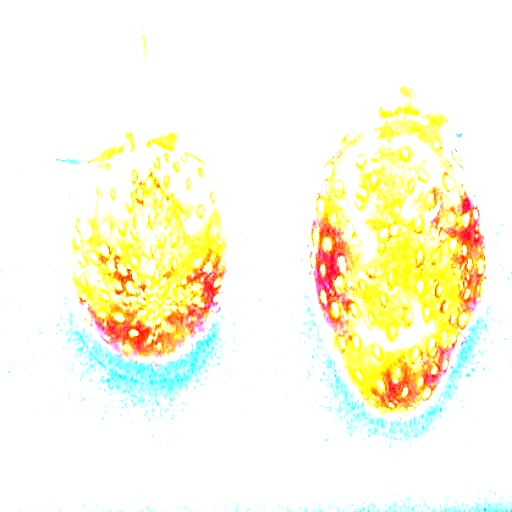Anthracnose Fruit Rot: (328, 111, 483, 356), (67, 153, 204, 331)
